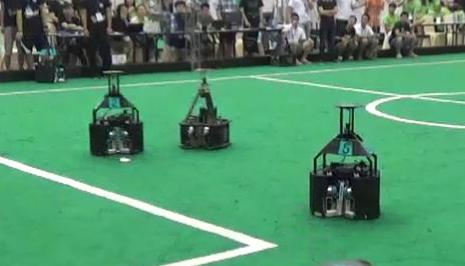robot: (306, 102, 384, 221), (84, 70, 147, 157), (174, 67, 232, 151)
